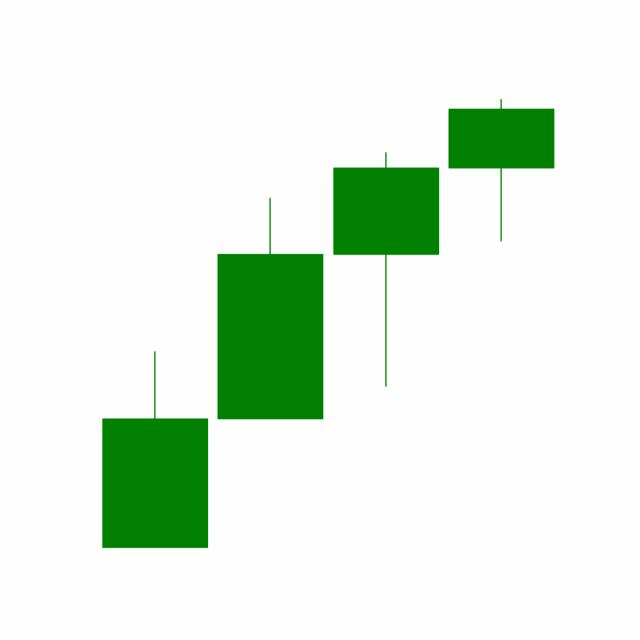Hanging Man: (443, 97, 559, 243)
